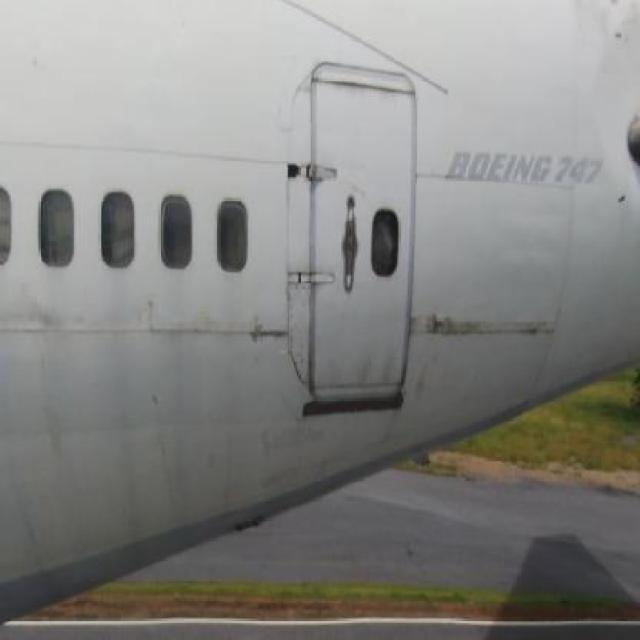Missing-Rivet: (284, 277, 318, 392)
Rust: (555, 2, 640, 83), (244, 300, 302, 392), (309, 63, 425, 109), (504, 298, 568, 372), (320, 340, 402, 397), (416, 290, 490, 352), (345, 163, 383, 215)
Scartch: (8, 269, 89, 477), (247, 407, 353, 508), (412, 353, 482, 435)
